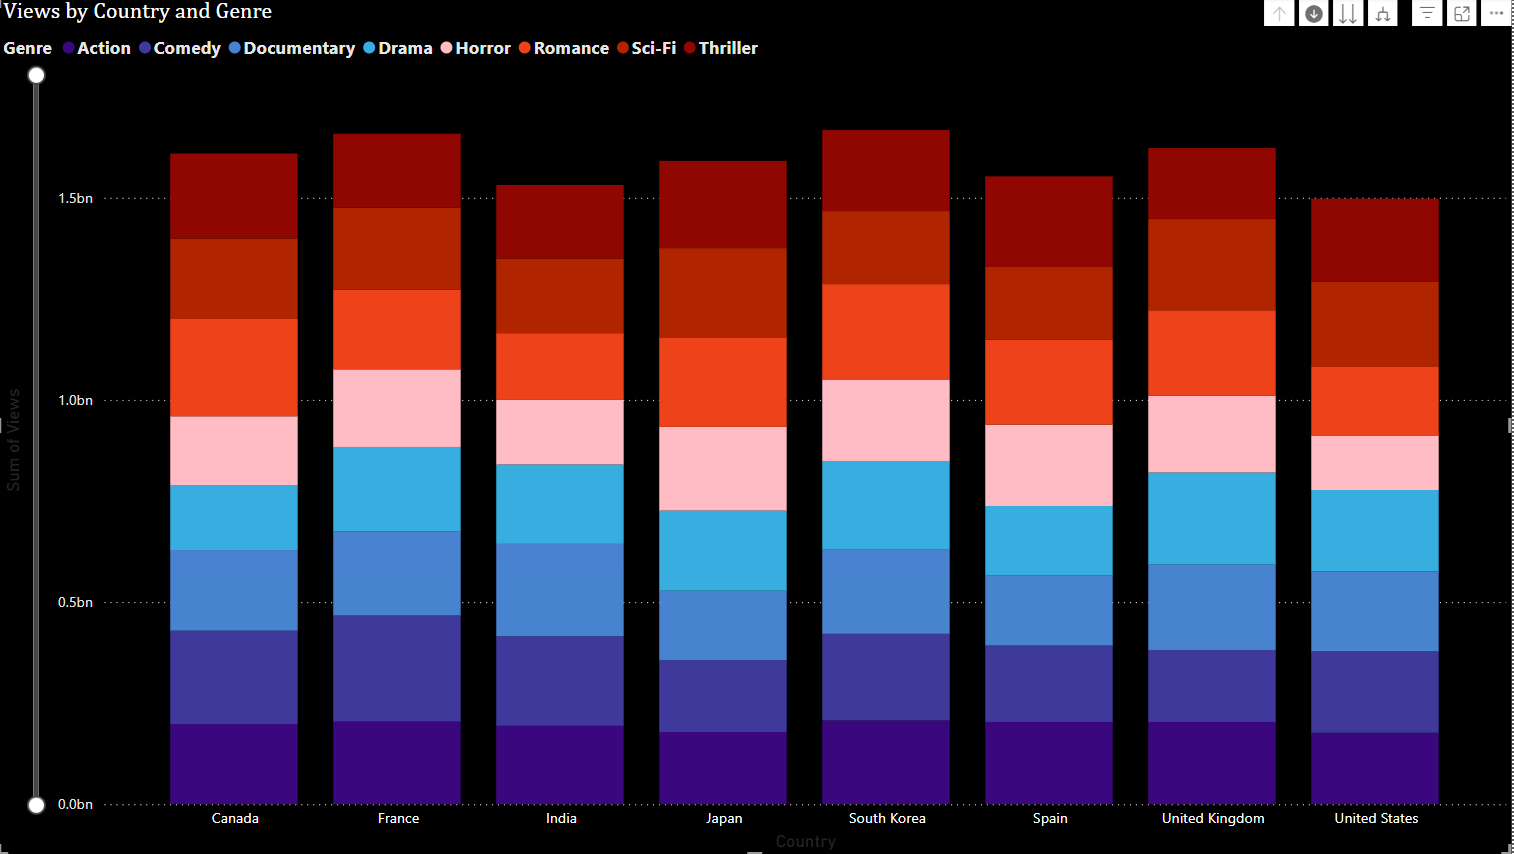

This screenshot's page, from the dashboard's own definition file:
{"tool":"powerbi","page":{"name":"Page 1","canvas":[1280,720],"ordinal":0},"visuals":[{"type":"columnChart","title":"Views by Country and Genre","fields":{"Category":["Sheet1.Country","Sheet1.Genre"],"Y":["Sum(Sheet1.Views)"],"Series":["Sheet1.Genre"]},"box":[9.6,0,1270.7,720.4],"z":0}]}

Visuals, with their boxes on the page's 1280x720 design canvas (x1, y1, x2, y2). These are canvas units, not pixel positions in the 1514x854 screenshot, which may show the page scaled, cropped or inside an application window:
"Views by Country and Genre" columnChart: (x1=10, y1=0, x2=1280, y2=720)
